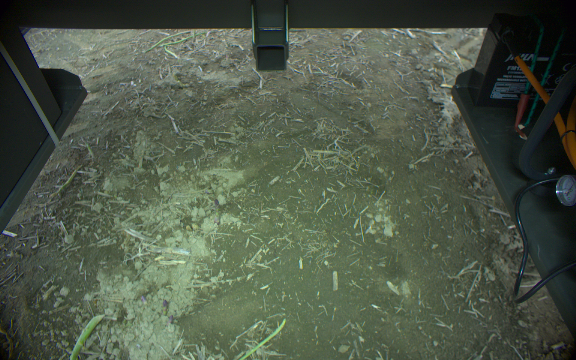aspa: (226, 313, 289, 360), (60, 311, 107, 360)
